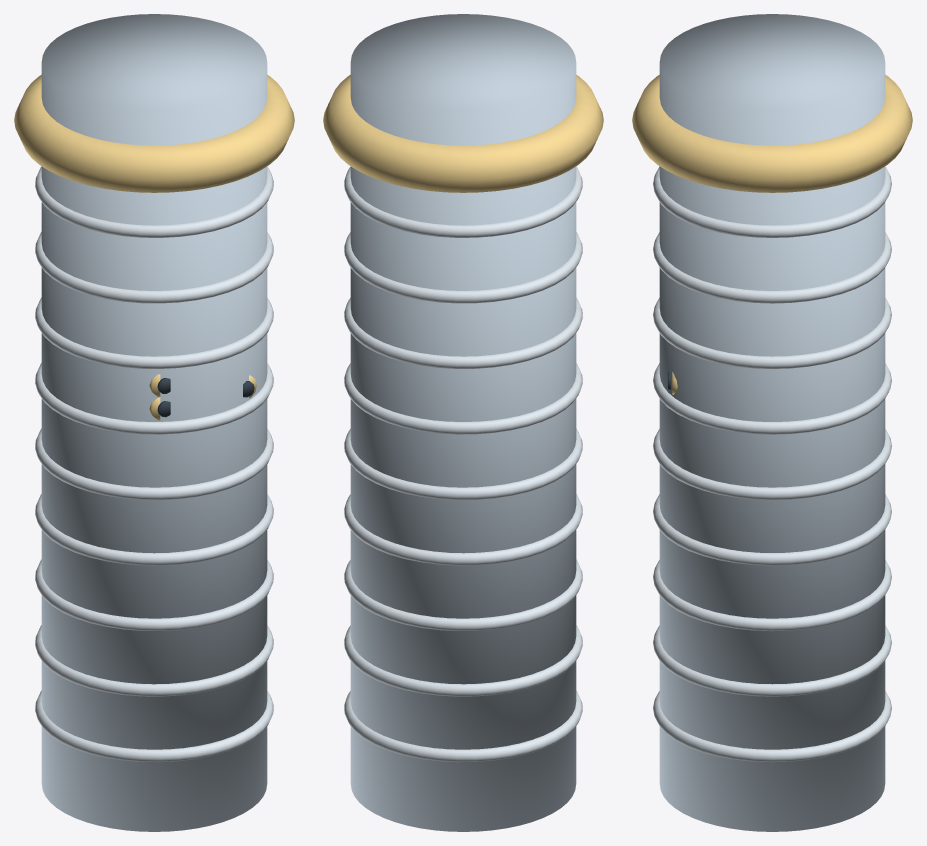
Rendered from 34_L92_RotaryPercussiveCoringDrill.fbx.
3 renders of one model, left to right at view 1: azimuth 30°, elevation 25°; view 2: azimuth 150°, elevation 25°; view 3: azimuth 270°, elevation 25°, orthographic.
Visible parts, largest first — view 1: L92_RotaryPercussiveCoringDri_Part_0000, L92_RotaryPercussiveCoringDri_Part_0003, L92_RotaryPercussiveCoringDri_Part_0001; view 2: L92_RotaryPercussiveCoringDri_Part_0000, L92_RotaryPercussiveCoringDri_Part_0003, L92_RotaryPercussiveCoringDri_Part_0001; view 3: L92_RotaryPercussiveCoringDri_Part_0000, L92_RotaryPercussiveCoringDri_Part_0003, L92_RotaryPercussiveCoringDri_Part_0001.
Boxes of the visible parts, <box> form: L92_RotaryPercussiveCoringDri_Part_0000: <box>41,14,267,831</box>; L92_RotaryPercussiveCoringDri_Part_0003: <box>35,166,273,762</box>; L92_RotaryPercussiveCoringDri_Part_0001: <box>14,75,294,192</box>; L92_RotaryPercussiveCoringDri_Part_0000: <box>350,14,576,831</box>; L92_RotaryPercussiveCoringDri_Part_0003: <box>344,166,582,762</box>; L92_RotaryPercussiveCoringDri_Part_0001: <box>323,75,603,192</box>; L92_RotaryPercussiveCoringDri_Part_0000: <box>659,14,885,831</box>; L92_RotaryPercussiveCoringDri_Part_0003: <box>653,166,891,762</box>; L92_RotaryPercussiveCoringDri_Part_0001: <box>632,75,912,192</box>.
Size of the model in its own units: 1.32 by 3.75 by 1.32.
